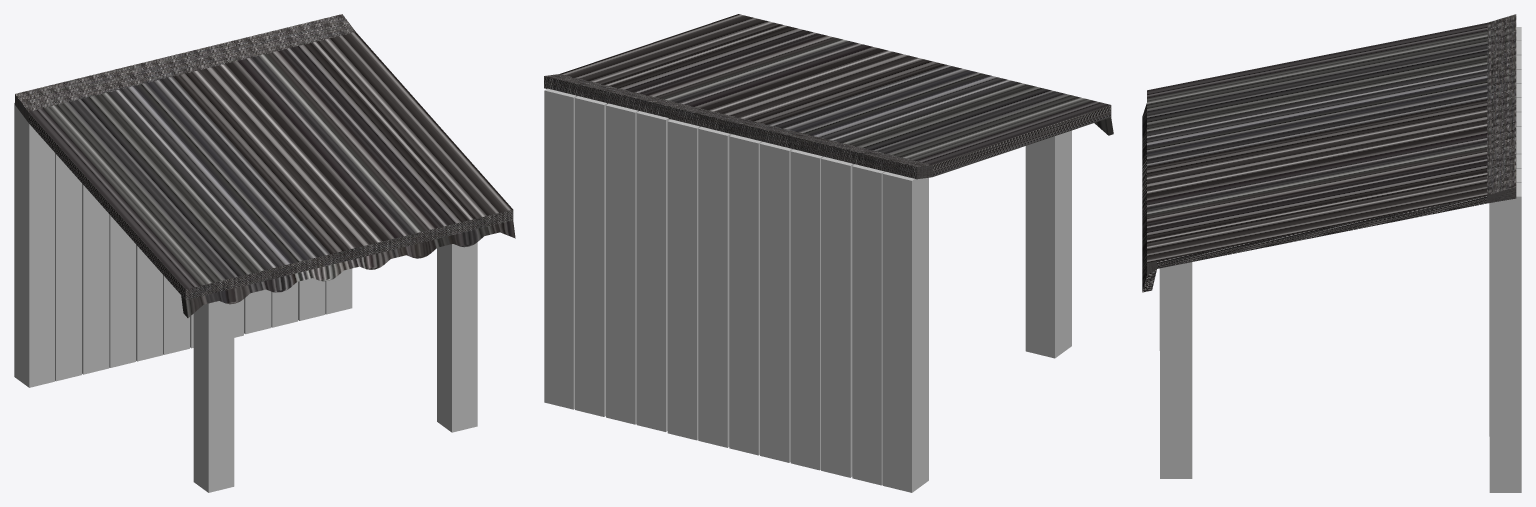
The model's file is shop.fbx.
The picture shows the model from 3 angles, left to right: view 1: azimuth 30°, elevation 25°; view 2: azimuth 150°, elevation 25°; view 3: azimuth 270°, elevation 25°; orthographic projection. The views are drawn at different scales.
Parts seen in each view (by area): view 1: shop; view 2: shop; view 3: shop.
Part boxes in pixels (bbox=[...]): shop: bbox=[14, 14, 515, 492]; shop: bbox=[544, 14, 1113, 492]; shop: bbox=[1142, 14, 1521, 492].
Size of the model in its own units: 211 by 176 by 196.
